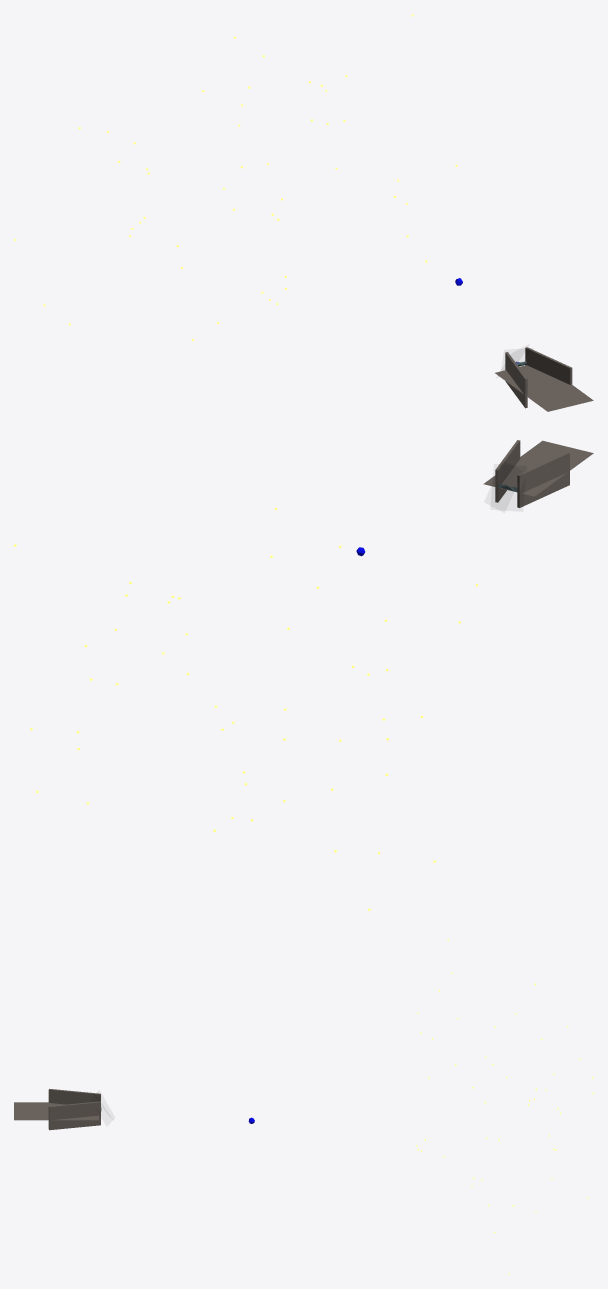
Rendered from spaceShip.fbx.
3 views of the same model, one above another, from view 1: azimuth 30°, elevation 25°; view 2: azimuth 150°, elevation 25°; view 3: azimuth 270°, elevation 25° (orthographic). The views are drawn at different scales.
Visible parts, largest first — view 1: Floor, Cube_1; view 2: Cube_1, Floor, Plane; view 3: Cube_1, Floor.
Boxes of the visible parts, box(x1,y1,x2,y2) form: Floor: box(495, 365, 593, 411); Cube_1: box(505, 347, 572, 408); Cube_1: box(495, 440, 569, 507); Floor: box(483, 440, 593, 496); Plane: box(491, 465, 522, 509); Cube_1: box(48, 1089, 100, 1130); Floor: box(14, 1102, 98, 1120).
Bounding box in the file's own units: 25906 × 17005 × 43637.
